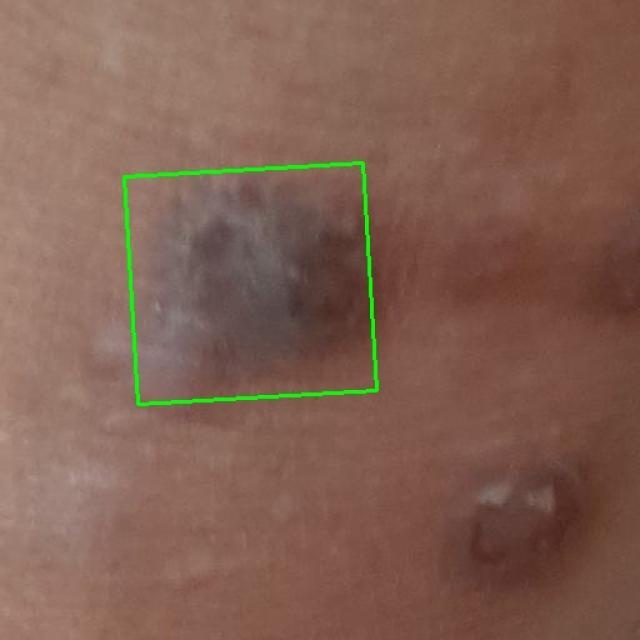Contact Dermatitis: (125, 163, 377, 404)
